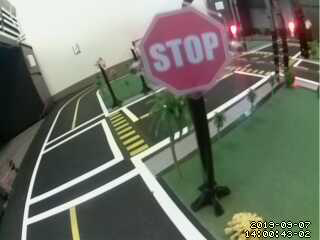Stop_Sign: (133, 8, 233, 94)
